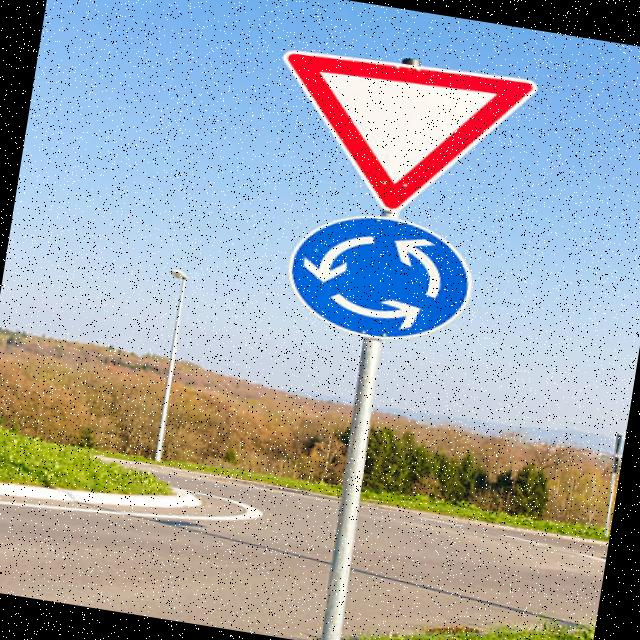give_way: (247, 24, 548, 239)
